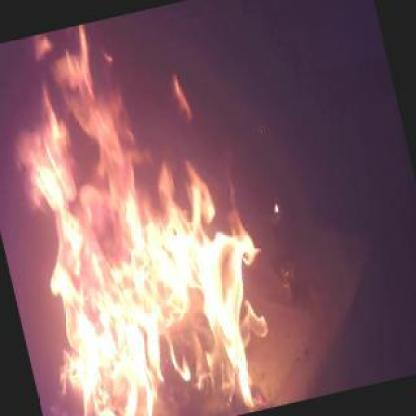Fire: (0, 0, 295, 415)
